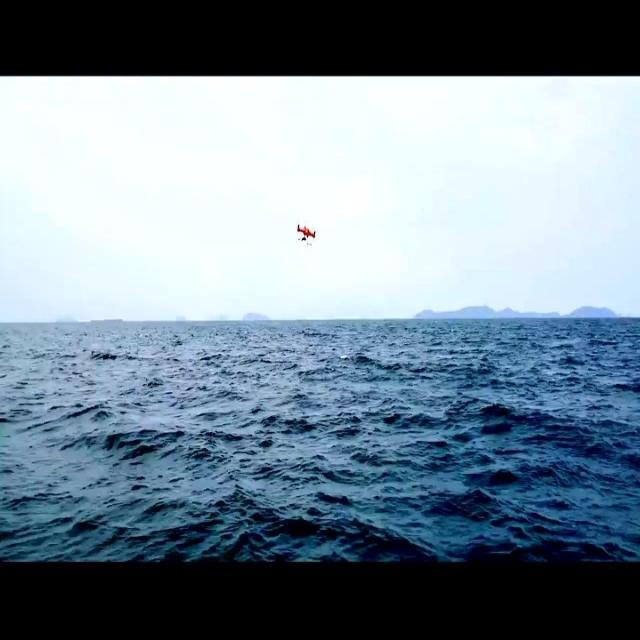UAV: (297, 224, 316, 245)
